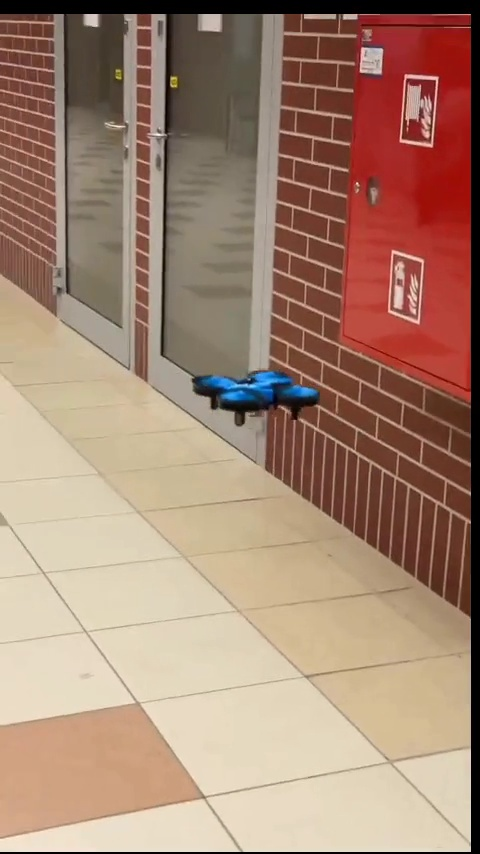drone: (189, 368, 316, 423)
